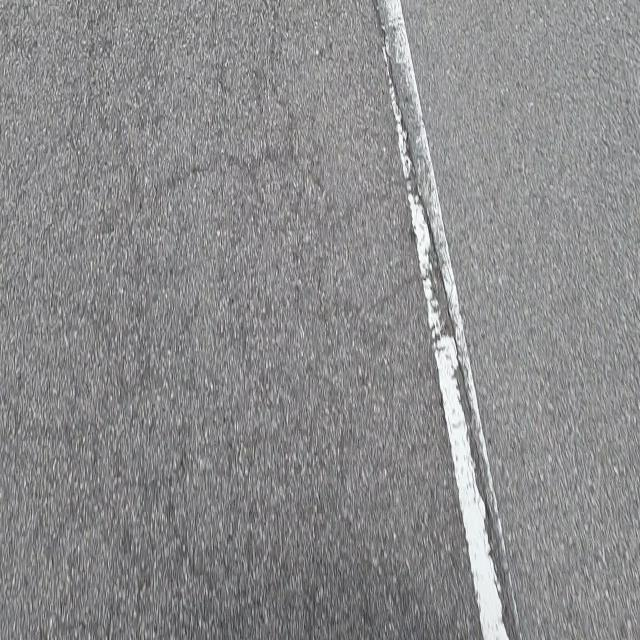Retak-Memanjang: (371, 1, 470, 421)
